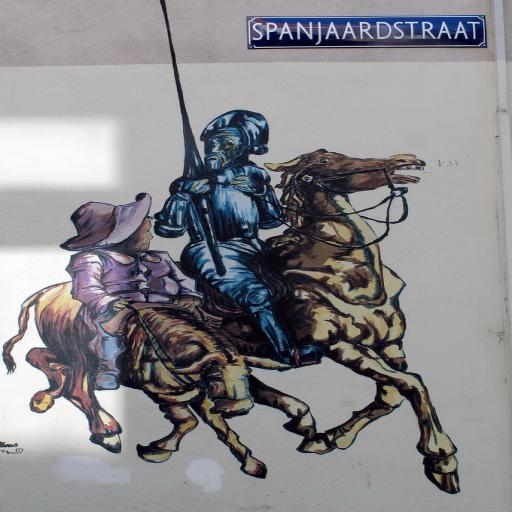horse: (164, 146, 461, 494), (0, 278, 333, 481)
